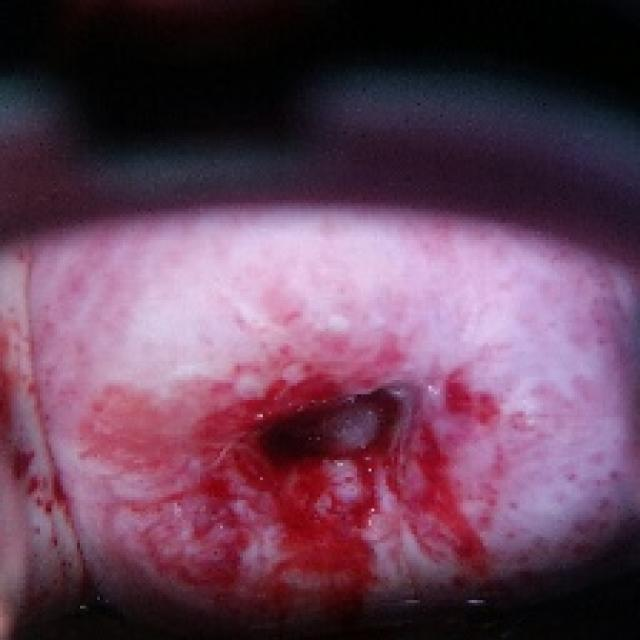type-3: (0, 198, 640, 636)
